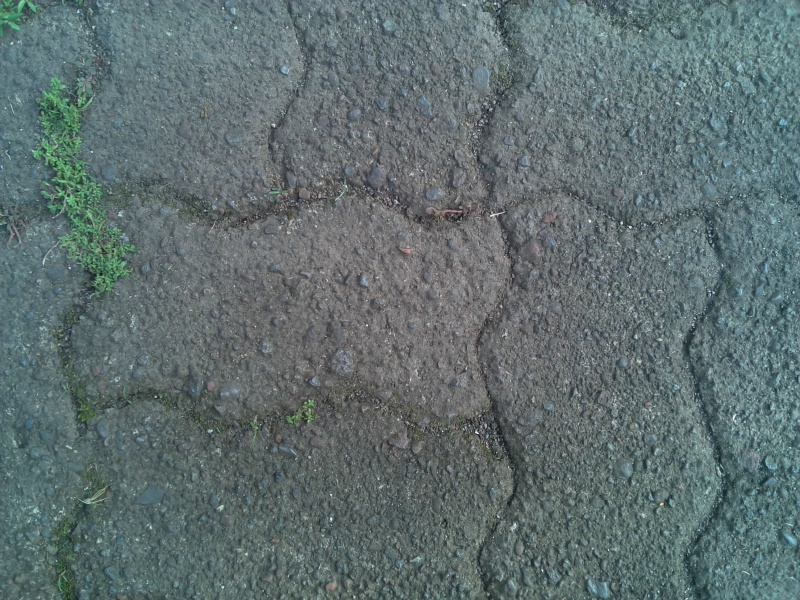Weed: (31, 86, 146, 293), (277, 391, 331, 434), (68, 481, 110, 520), (259, 174, 295, 211)
